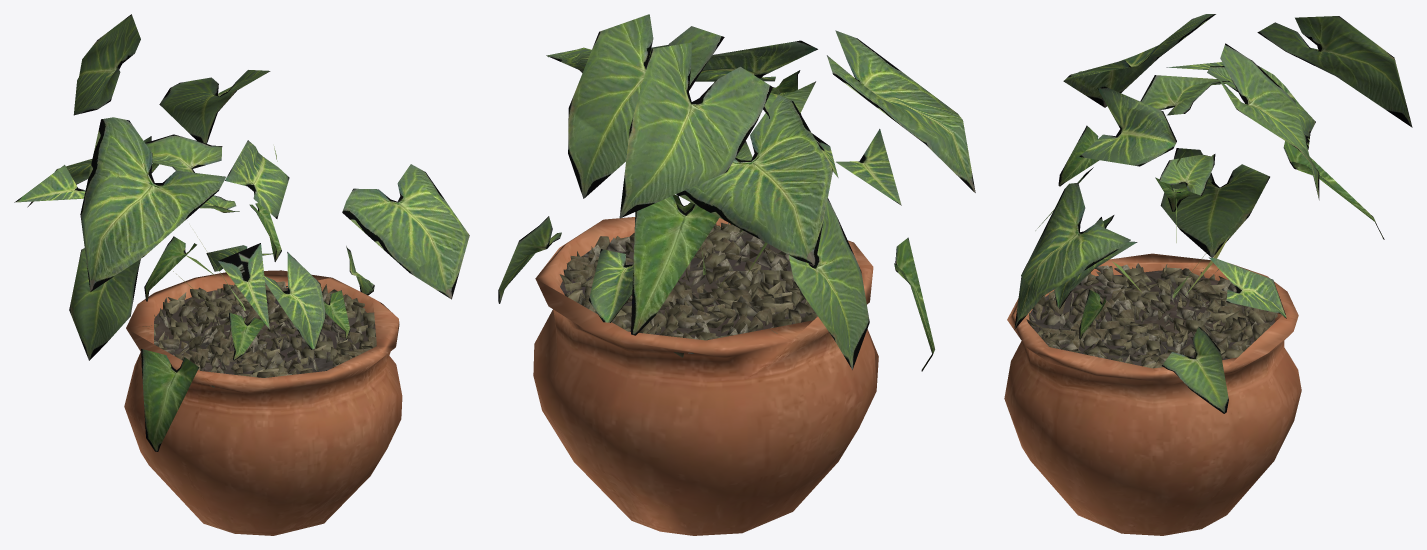
The model's file is potted_plant_02.glb.
3 renders of one model, left to right at view 1: azimuth 30°, elevation 25°; view 2: azimuth 150°, elevation 25°; view 3: azimuth 270°, elevation 25°, orthographic. The views are drawn at different scales.
Parts seen in each view (by area): view 1: potted_plant_02_pot, potted_plant_02_leaves; view 2: potted_plant_02_pot, potted_plant_02_leaves; view 3: potted_plant_02_pot, potted_plant_02_leaves.
Part boxes in pixels (box(x1,y1,x2,y2)): potted_plant_02_pot: box(124, 270, 402, 535); potted_plant_02_leaves: box(14, 14, 469, 451); potted_plant_02_pot: box(533, 217, 878, 535); potted_plant_02_leaves: box(498, 14, 975, 371); potted_plant_02_pot: box(1004, 253, 1301, 535); potted_plant_02_leaves: box(1014, 14, 1412, 413).
Bounding box in the file's own units: 0.6967 × 0.8138 × 0.6481.
2 materials, 2 textured.
